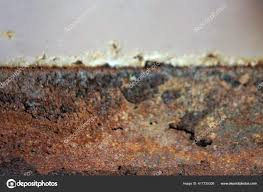rust: (1, 55, 263, 175)
